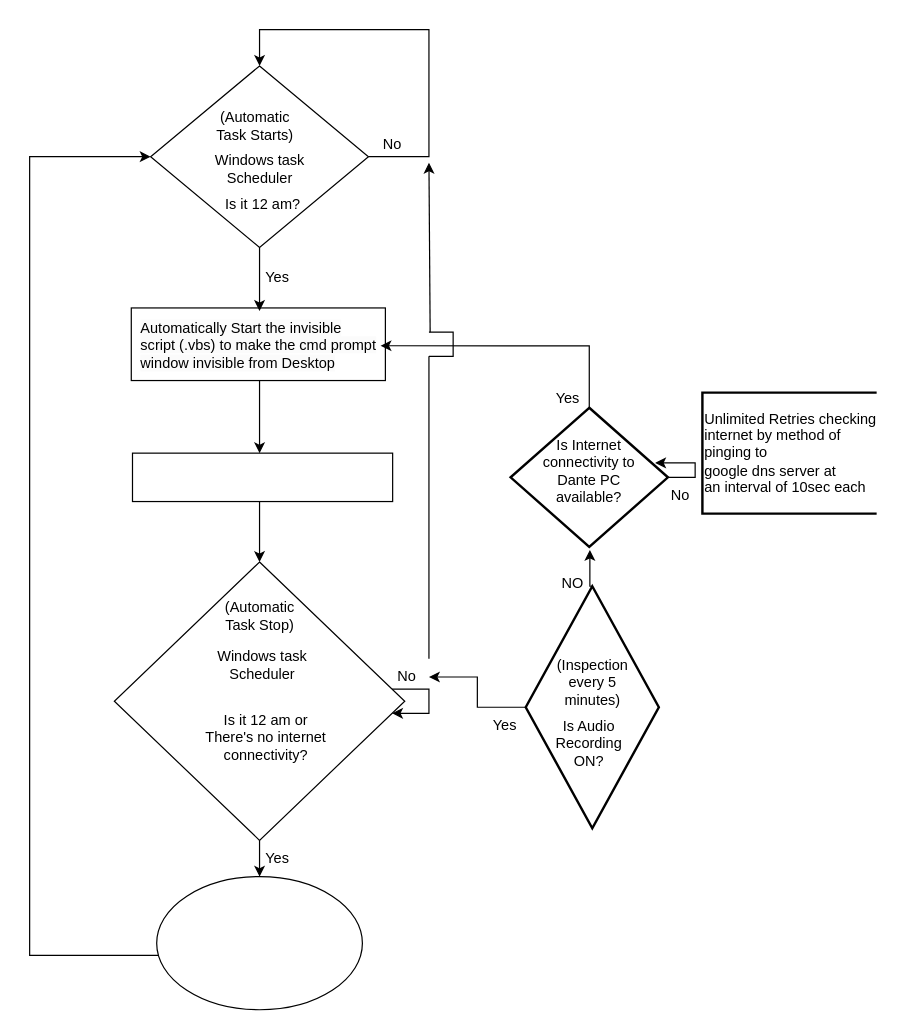
Image size: 899x1031. Some labels were removed from this diagram. Each missing label, with the centre of its shape:
"Automatically Start the main script (.bat) to download audio from link" belongs at pixel 262 477.
"Stop and save whole task with date and time it started" belongs at pixel 258 942.
